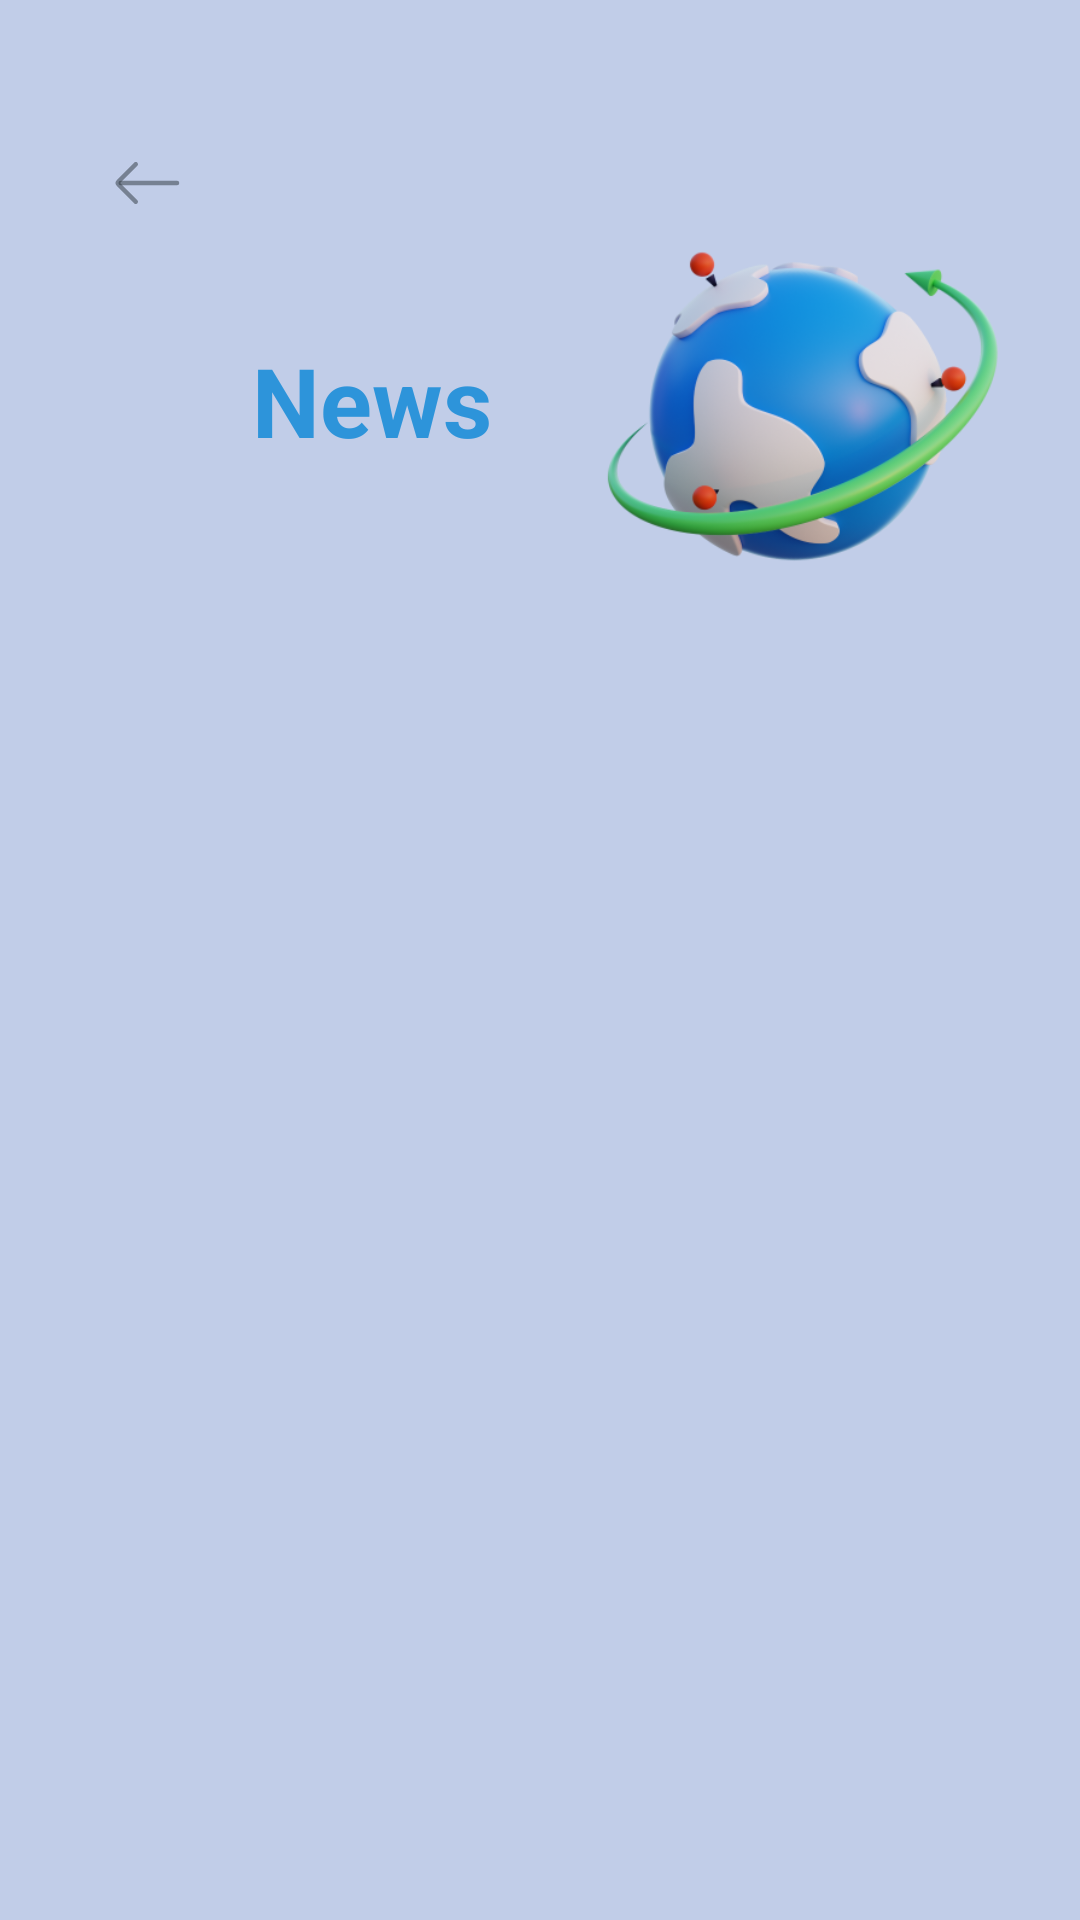

Icon click points for this 1080 x 1920 phone screenshot, format [x,y]:
arrow eft: [147,183]
